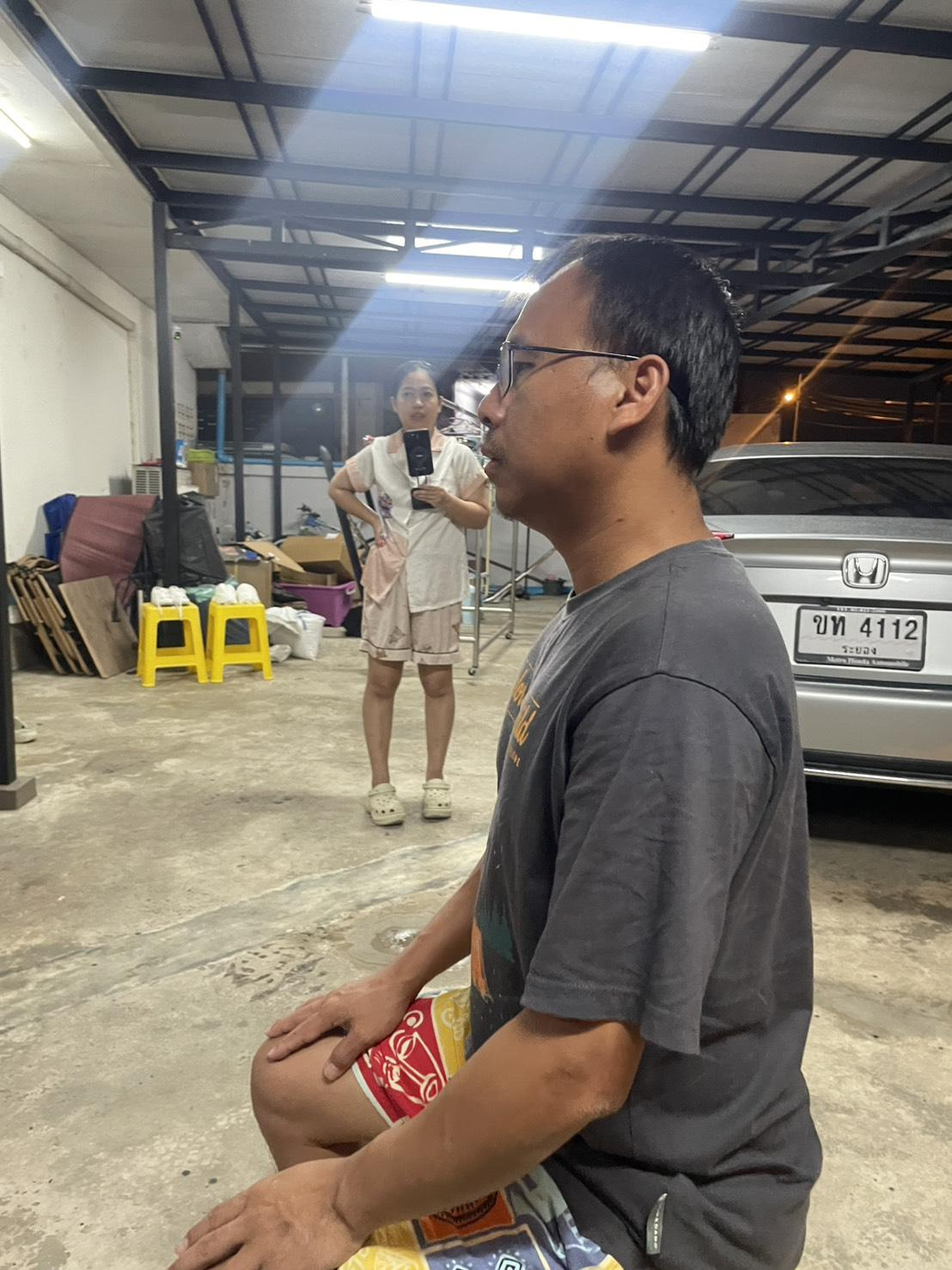GoodPosture: (304, 236, 819, 1269)
